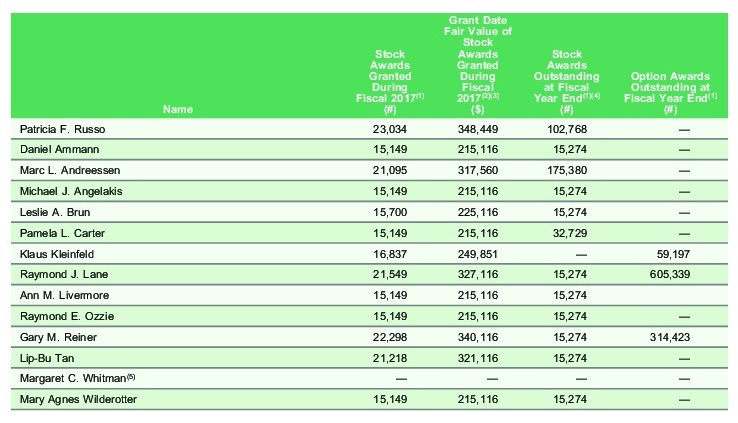table: (0, 0, 738, 423)
